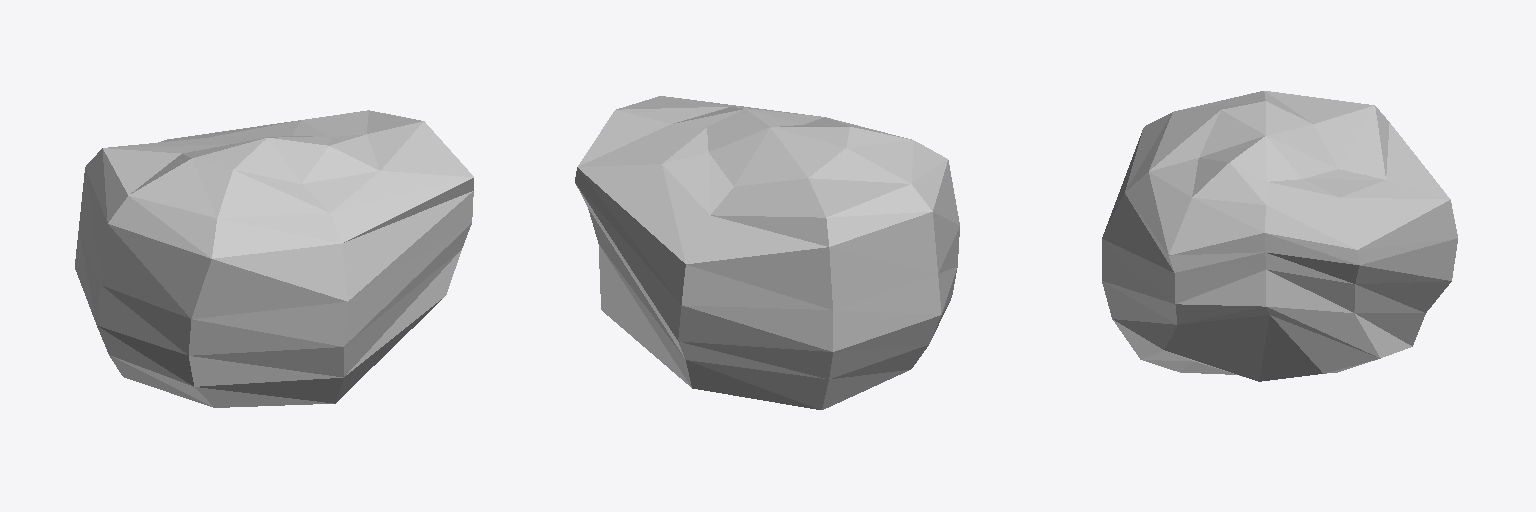
File: WOH_Asset_Big_Boulder2.obj
3 views of the same model, side by side, from view 1: azimuth 30°, elevation 25°; view 2: azimuth 150°, elevation 25°; view 3: azimuth 270°, elevation 25° (orthographic).
Parts seen in each view (by area): view 1: WOH_Asset_Big_Boulder2_Big_Boulder2; view 2: WOH_Asset_Big_Boulder2_Big_Boulder2; view 3: WOH_Asset_Big_Boulder2_Big_Boulder2.
Part boxes in pixels (bbox=[...]): WOH_Asset_Big_Boulder2_Big_Boulder2: bbox=[75, 110, 473, 407]; WOH_Asset_Big_Boulder2_Big_Boulder2: bbox=[575, 96, 959, 409]; WOH_Asset_Big_Boulder2_Big_Boulder2: bbox=[1102, 91, 1457, 381].
Bounding box in the file's own units: 17.95 × 12.62 × 16.65.